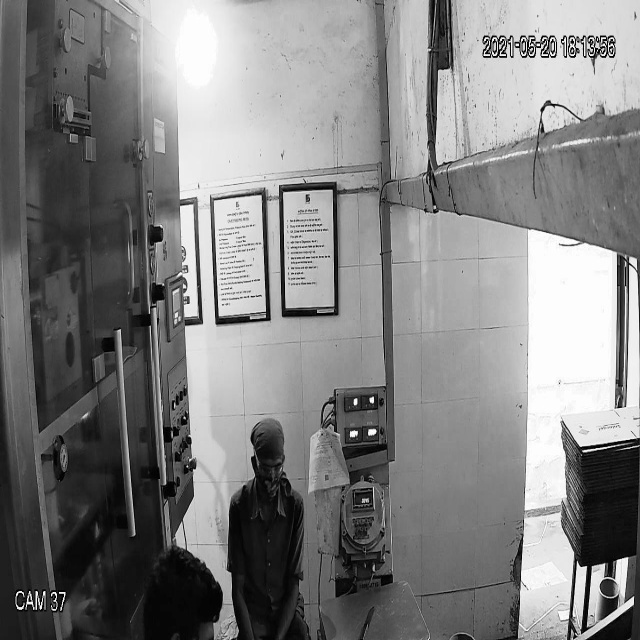Gafas: (251, 448, 286, 481)
